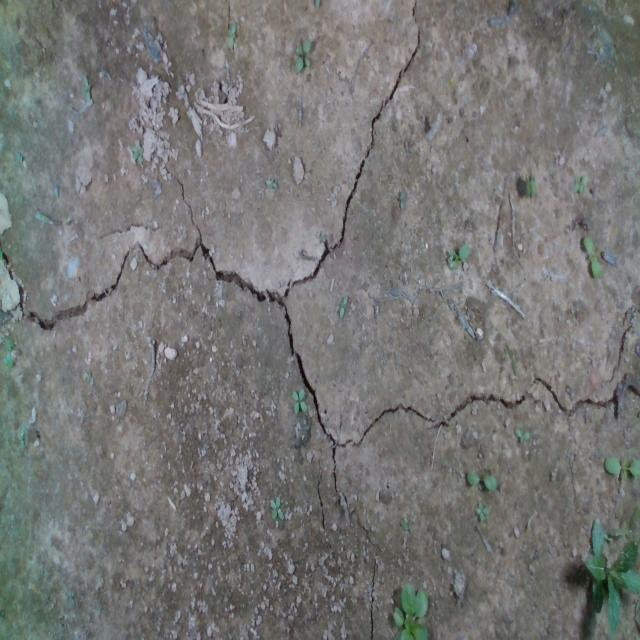weed: (442, 236, 478, 278), (290, 27, 314, 70), (507, 418, 531, 453), (582, 236, 602, 278), (264, 487, 290, 517), (331, 287, 349, 327), (570, 161, 587, 199), (466, 470, 498, 489), (286, 384, 306, 412), (474, 501, 492, 520), (130, 145, 144, 164)
